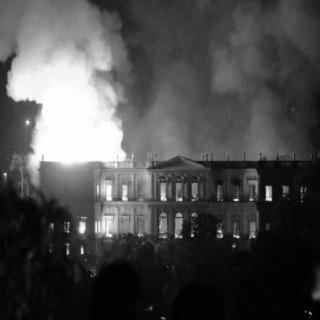Fire: (27, 90, 131, 241), (156, 217, 256, 246), (262, 177, 308, 205)
Smoke: (13, 3, 303, 91), (158, 97, 312, 157)
